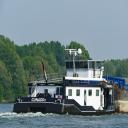tugboat: (13, 44, 119, 119)
